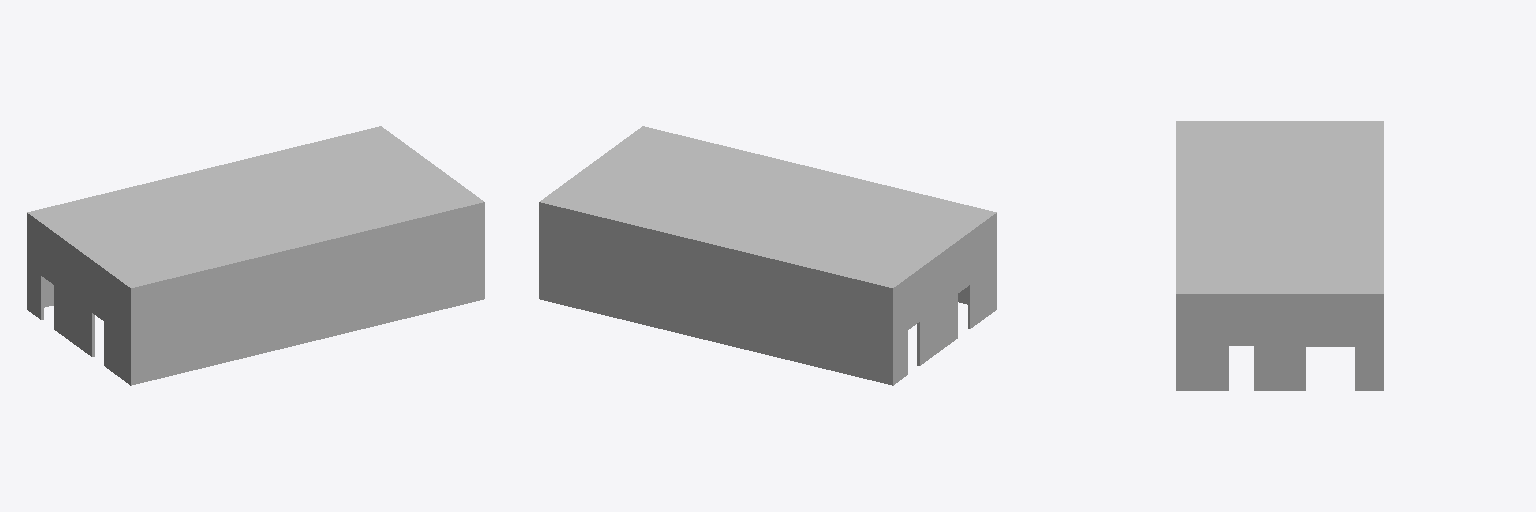
File: nowalls.obj
3 renders of one model, left to right at view 1: azimuth 30°, elevation 25°; view 2: azimuth 150°, elevation 25°; view 3: azimuth 270°, elevation 25°, orthographic.
Visible parts, largest first — view 1: Cube.001; view 2: Cube.001; view 3: Cube.001.
Boxes of the visible parts, x1=… form: Cube.001: x1=27, y1=126, x2=484, y2=385; Cube.001: x1=539, y1=126, x2=996, y2=385; Cube.001: x1=1176, y1=121, x2=1383, y2=390.
Bounding box in the file's own units: 8.29 × 2.18 × 4.21.